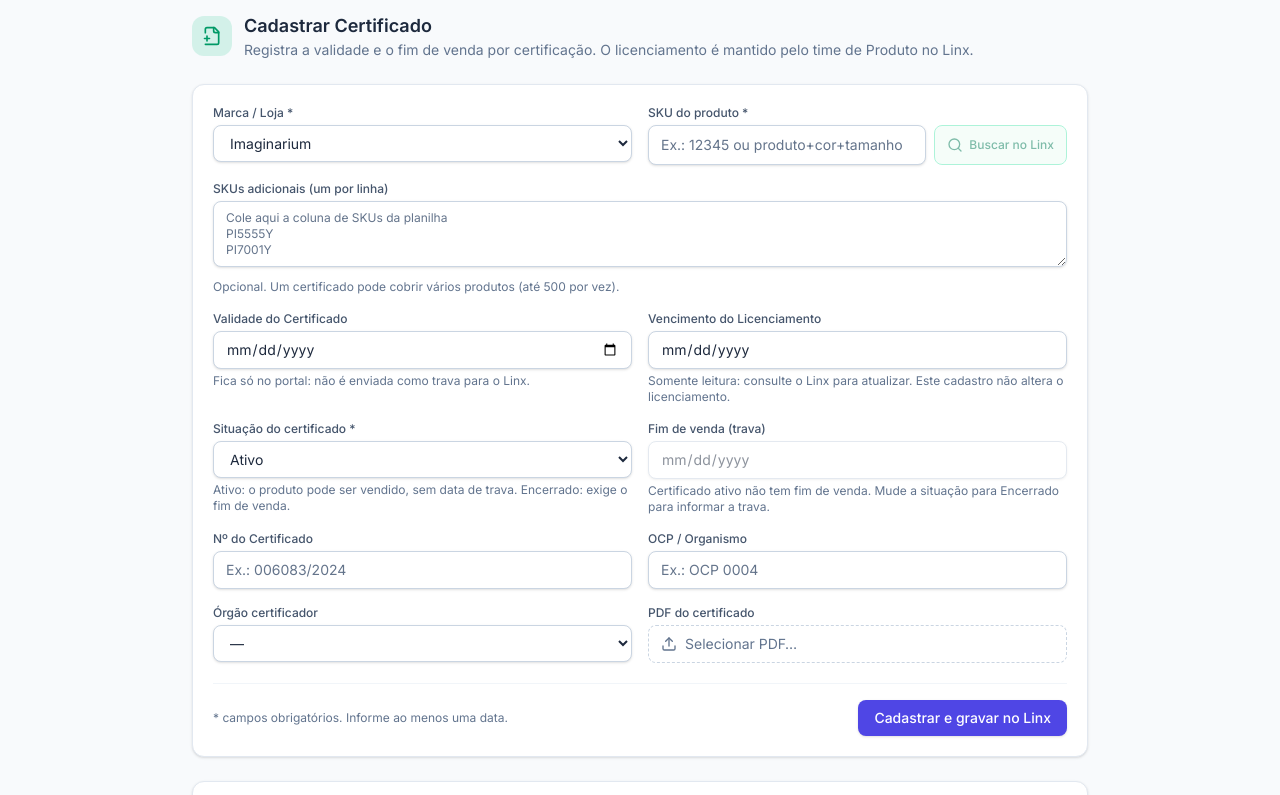
CertCadastroPage — status skipped do Linx › explica no resultado do cadastro que certificado ativo não trava venda
Type "PI5555Y" into the field labelled "SKU do produto *" at (787, 145), box [648,125,926,165]
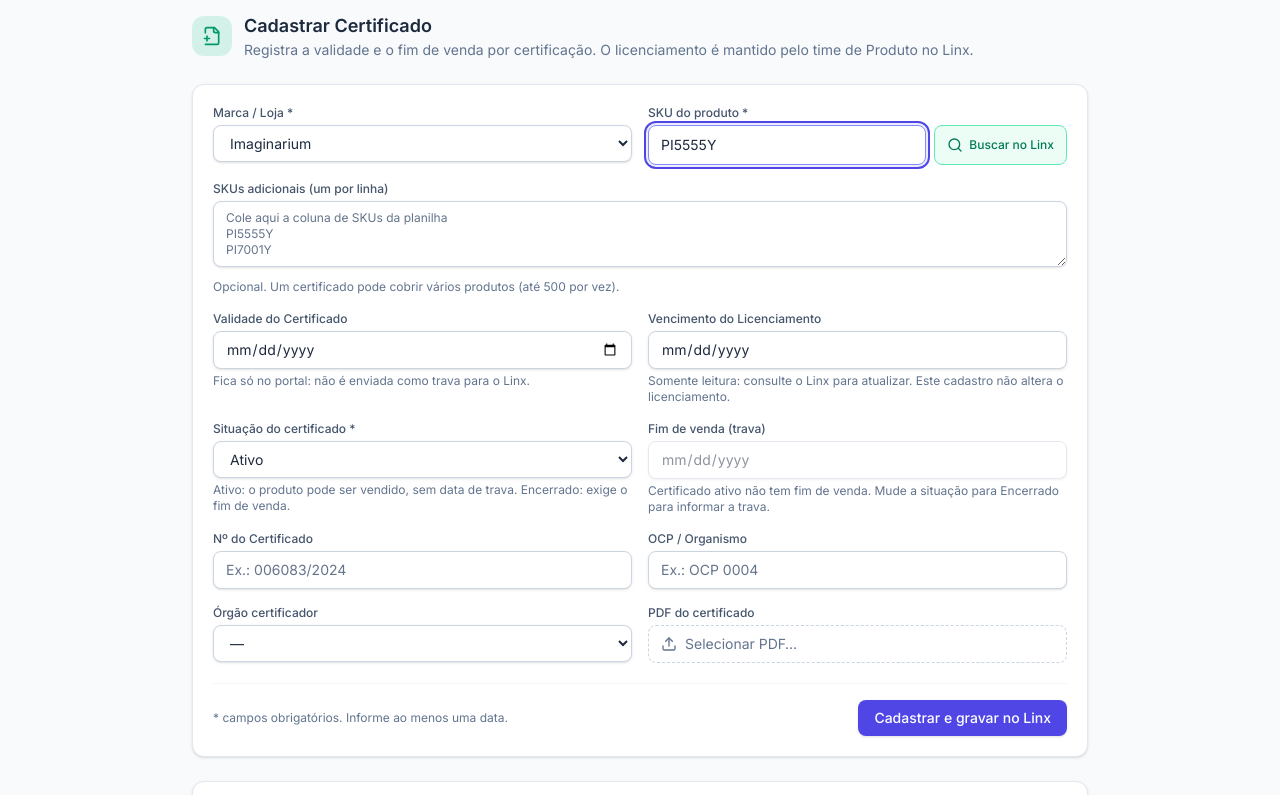
Type "2027-03-22" into the date field labelled "Validade do Certificado" at (422, 350), box [213,331,632,369]
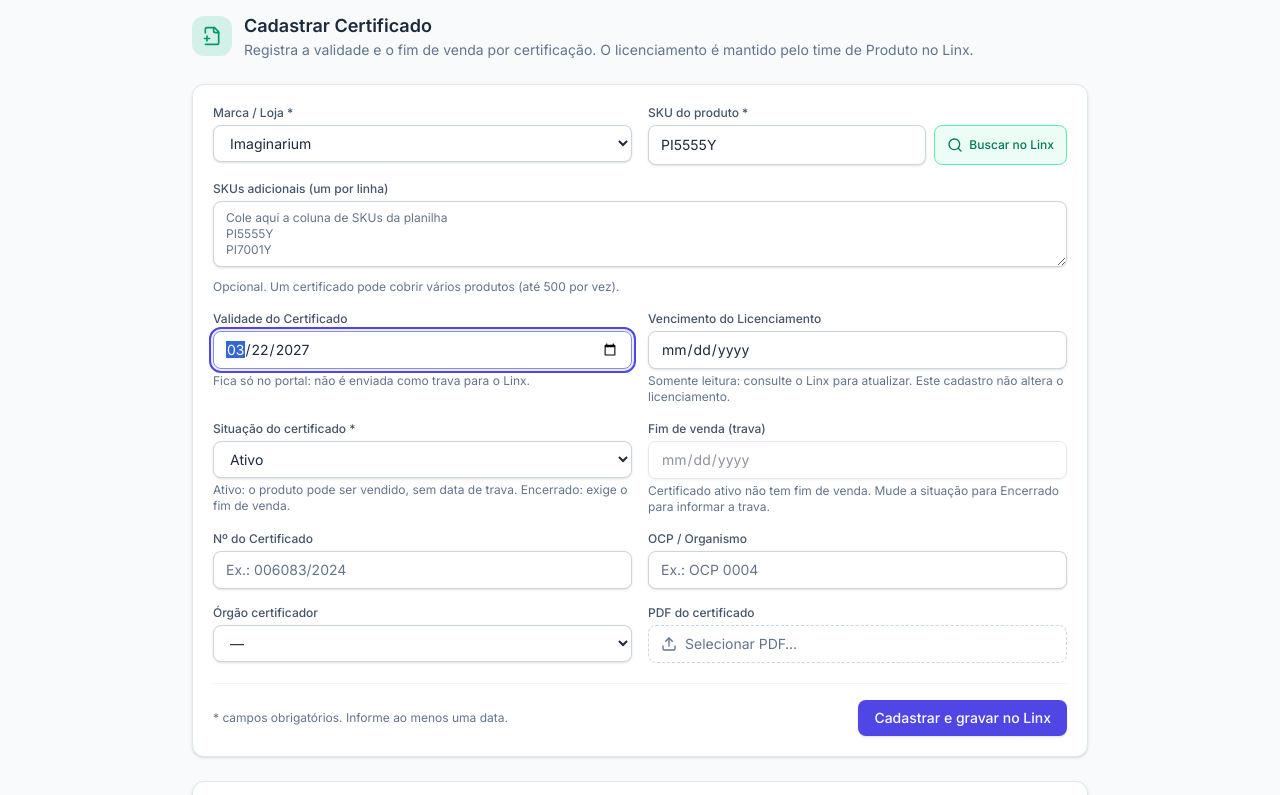
Click the button "Cadastrar e gravar no Linx" at (963, 718), box [858,700,1067,736]
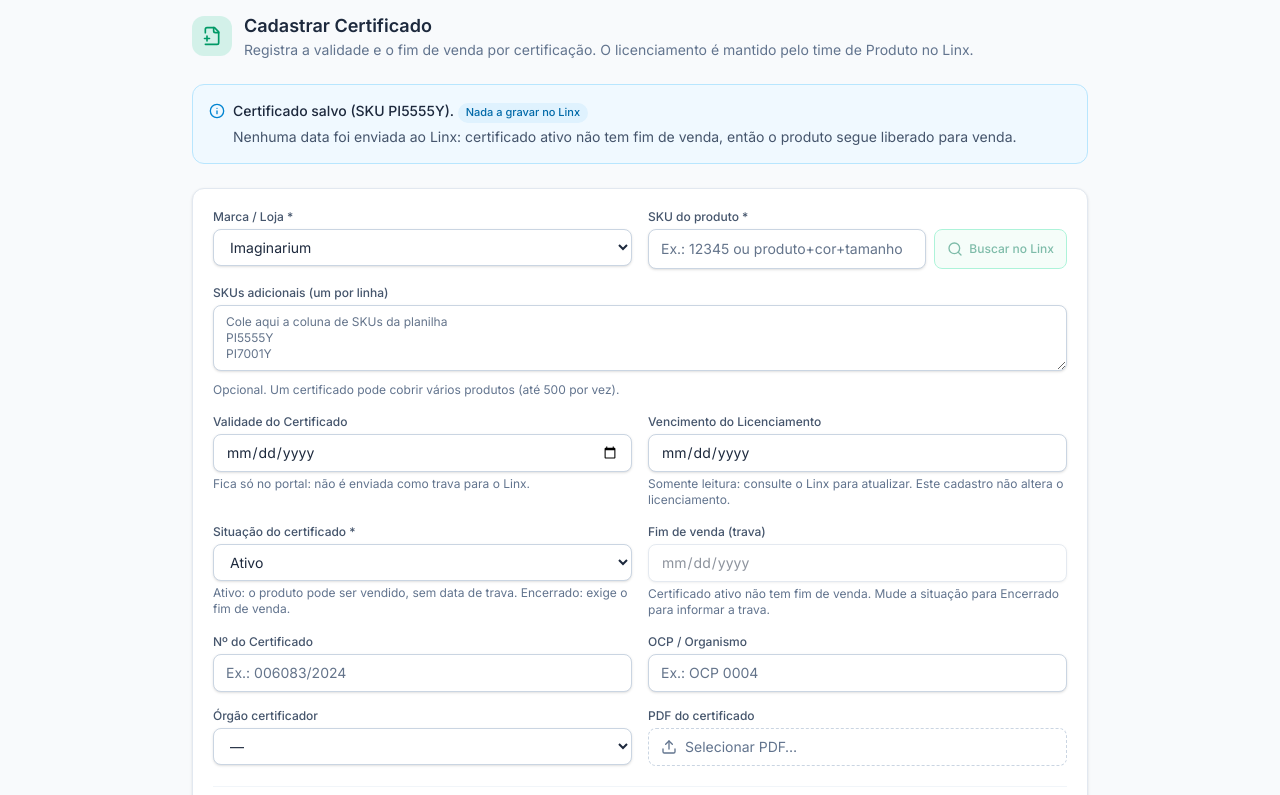
Check: the text "Certificado salvo (SKU PI5555Y). Nada a gravar no Linx" is shown, box [233,102,588,123]
Check: the text "Nenhuma data foi enviada ao Linx: certificado ativo não tem fim de venda" is shown, box [233,128,1016,145]
